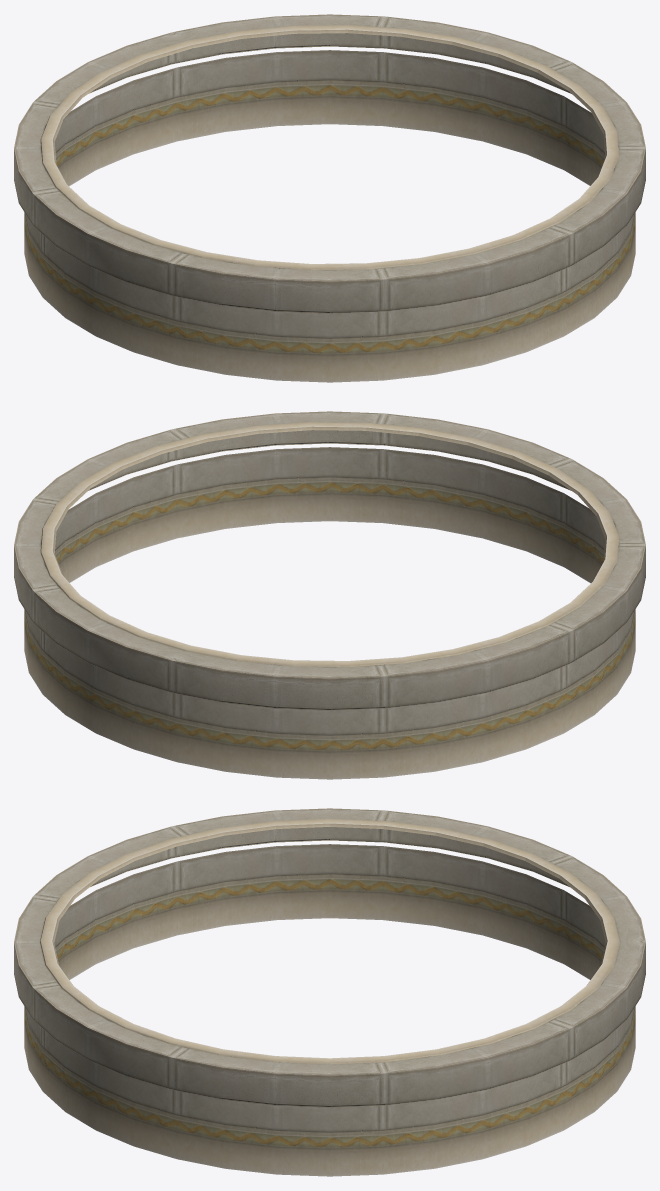
The model's file is hd_jinbifuben_002.FBX.
The picture shows the model from 3 angles, top to bottom: view 1: azimuth 30°, elevation 25°; view 2: azimuth 150°, elevation 25°; view 3: azimuth 270°, elevation 25°; orthographic projection.
Visible parts, largest first — view 1: hd_jinbifuben_002; view 2: hd_jinbifuben_002; view 3: hd_jinbifuben_002.
Part boxes in pixels (left/top/right/bottom): hd_jinbifuben_002: left=14, top=14, right=645, bottom=382; hd_jinbifuben_002: left=14, top=411, right=645, bottom=779; hd_jinbifuben_002: left=14, top=808, right=645, bottom=1176.
Bounding box in the file's own units: 3247 × 604 × 3247.
Materials: 1 (1 with a texture image).
